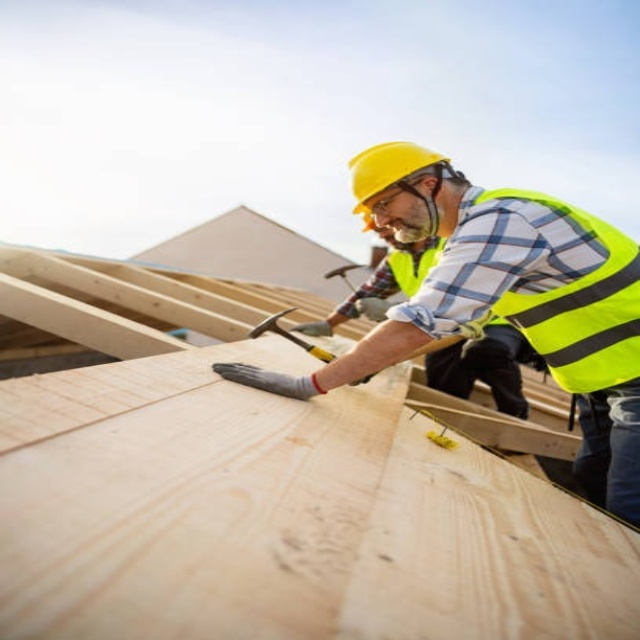Gafas: (370, 178, 424, 220)
Guantes: (214, 361, 325, 400), (356, 296, 401, 322), (289, 320, 333, 338)
Sin_mascara: (380, 219, 424, 244)
